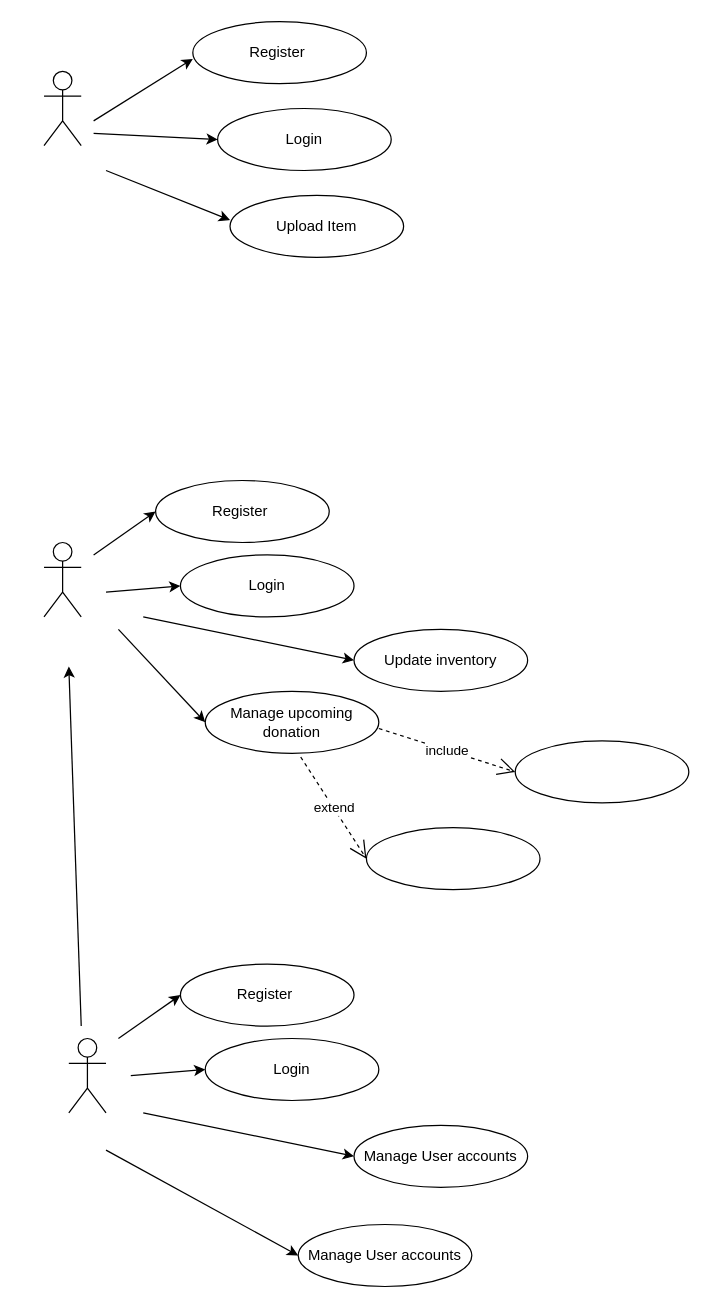
The diagram is 711 pixels wide and 1308 high, and some of its shapes have lost their labels. The box of each missing label's shape, as (x1, y1, x2, y2) in pixels:
Administration: (68, 1037, 106, 1113)
Allocate distrubution: (365, 826, 540, 890)
Approve/Decline Donations: (514, 740, 689, 803)
Charity Staff: (43, 541, 81, 617)
Donors: (43, 70, 81, 146)
